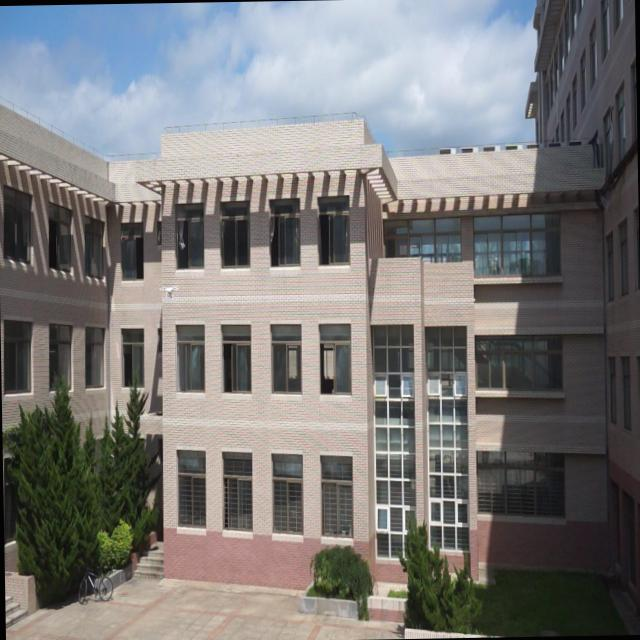drone: (160, 282, 178, 300)
